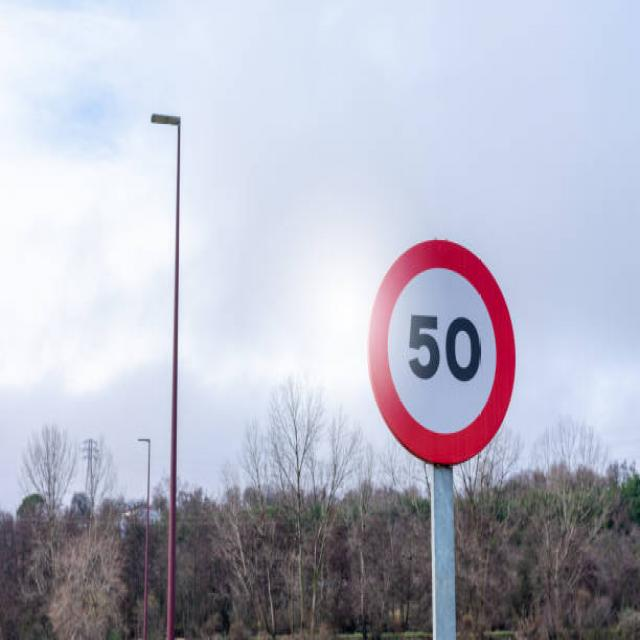speed_limit_50: (355, 213, 521, 470)
